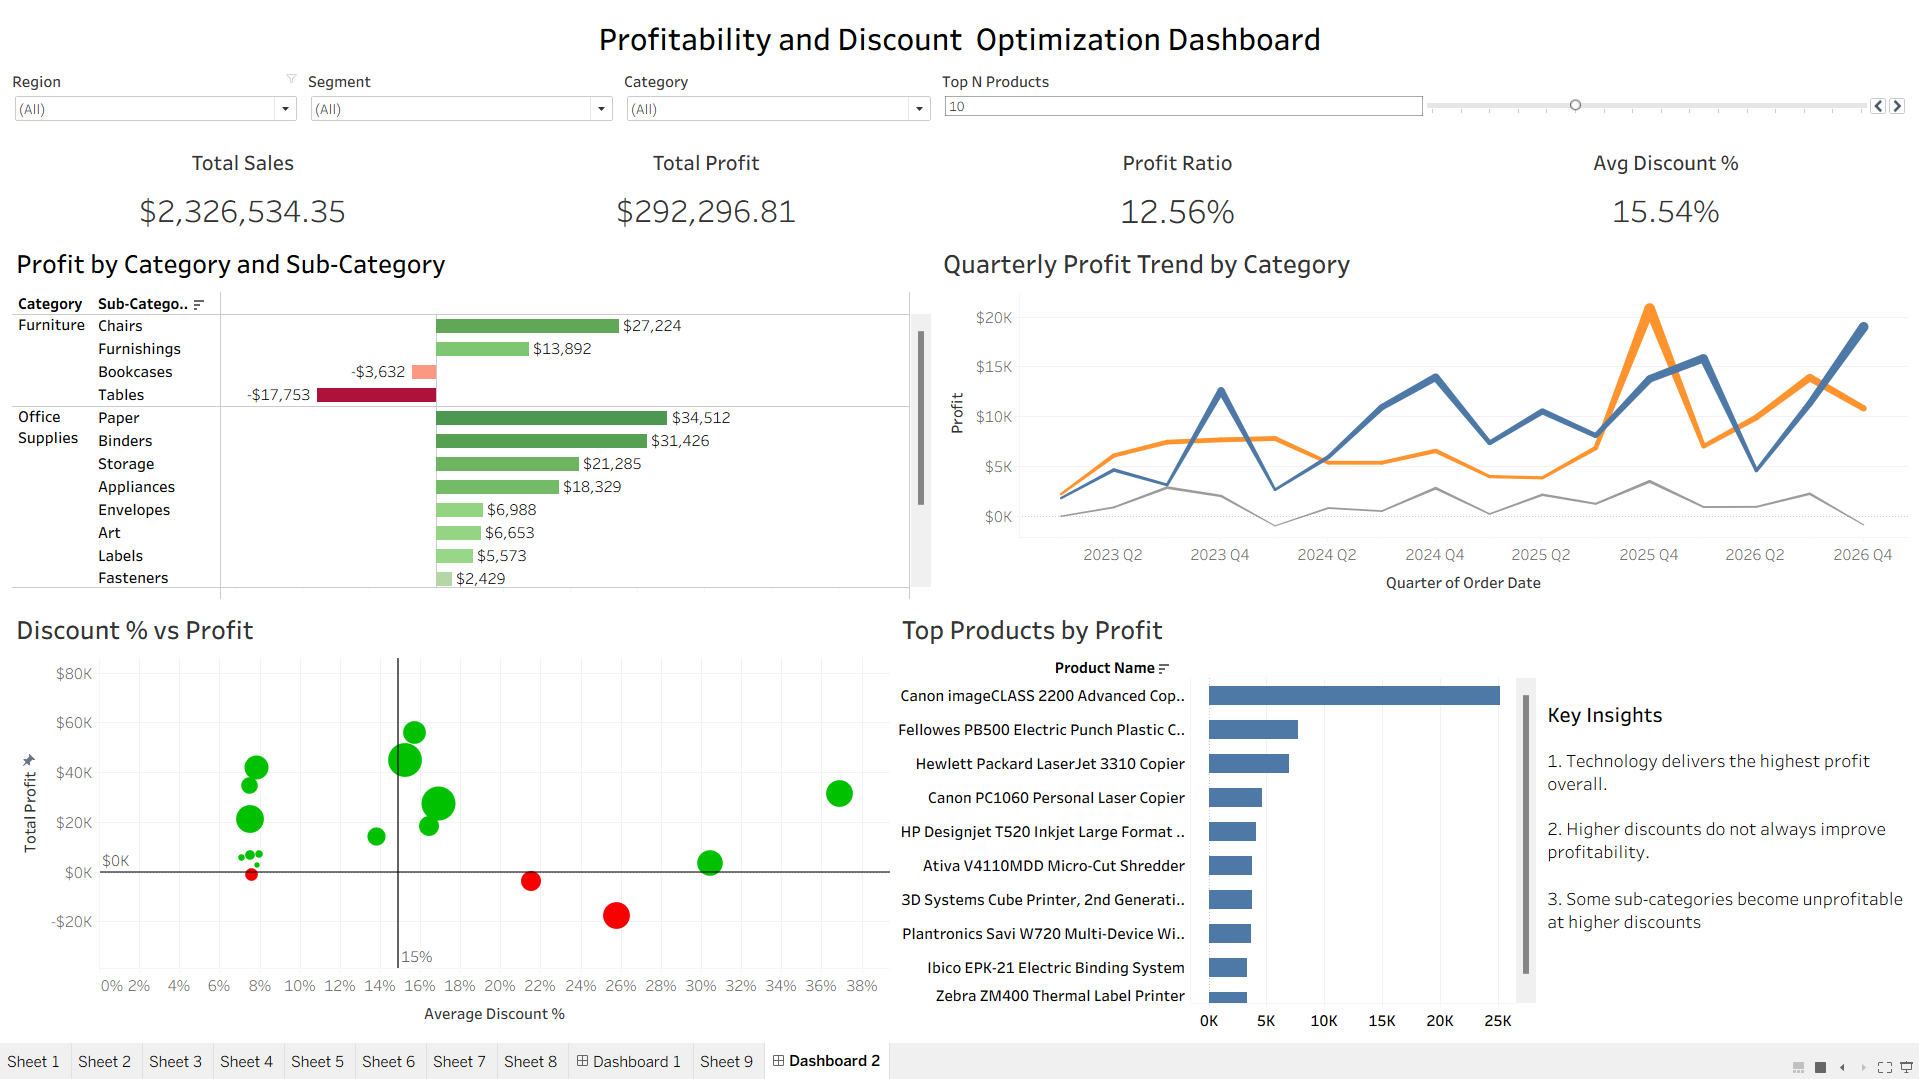

Layout of this report page (visuals, bound fields, positions):
{"tool":"tableau","page":{"name":"Dashboard 2","canvas":[1000,1000],"units":"permille","ordinal":1},"visuals":[{"type":"text","box":[4.8,9.4,990.3,56]},{"type":"filter","title":"Sheet 1","param":"[federated.17jq7yv1jr8ixq1a504ta0hgdchq].[none:Region:nk]","box":[4.8,65.4,154,69.6]},{"type":"filter","title":"Sheet 1","param":"[federated.17jq7yv1jr8ixq1a504ta0hgdchq].[none:Segment:nk]","box":[158.9,65.4,164.3,69.6]},{"type":"filter","title":"Sheet 1","param":"[federated.17jq7yv1jr8ixq1a504ta0hgdchq].[none:Category:nk]","box":[323.2,65.4,165.4,69.6]},{"type":"parameter","param":"[Parameters].[Discount Parameter]","box":[488.6,65.4,506.6,69.6]},{"type":"worksheet","title":"Sheet 6","mark":"Automatic","box":[4.8,135.1,244.2,94]},{"type":"worksheet","title":"Sheet 7","mark":"Automatic","box":[249.1,135.1,237.7,94]},{"type":"worksheet","title":"Sheet 8","mark":"Automatic","box":[486.8,135.1,252.3,94]},{"type":"worksheet","title":"Sheet 9","mark":"Automatic","box":[739.1,135.1,256.1,94]},{"type":"worksheet","title":"Sheet 1","mark":"Bar","rows":["Category","Sub-Category"],"cols":["Profit"],"box":[4.8,229.1,481.9,430.1]},{"type":"worksheet","title":"Sheet 3","mark":"Line","rows":["Profit"],"cols":["Order Date"],"box":[486.8,229.1,508.4,430.1]},{"type":"worksheet","title":"Sheet 2","mark":"Circle","rows":["Profit"],"cols":["Discount"],"box":[4.8,659.2,460.7,331.4]},{"type":"worksheet","title":"Sheet 5","mark":"Bar","rows":["Product Name"],"cols":["Profit"],"box":[465.5,659.2,389.9,331.4]},{"type":"text","box":[855.4,659.2,139.8,331.4]}]}

Visuals, with their boxes on the dashboard's canvas, which has no fixed pixel size, in thousandths of its width and height (x1, y1, x2, y2). These are canvas units, not pixel positions in the 1919x1079 screenshot, which may show the page scaled, cropped or inside an application window:
text: box(5, 9, 995, 65)
"Sheet 1" filter: box(5, 65, 159, 135)
"Sheet 1" filter: box(159, 65, 323, 135)
"Sheet 1" filter: box(323, 65, 489, 135)
parameter: box(489, 65, 995, 135)
"Sheet 6" worksheet: box(5, 135, 249, 229)
"Sheet 7" worksheet: box(249, 135, 487, 229)
"Sheet 8" worksheet: box(487, 135, 739, 229)
"Sheet 9" worksheet: box(739, 135, 995, 229)
"Sheet 1" worksheet (Bar marks): box(5, 229, 487, 659)
"Sheet 3" worksheet (Line marks): box(487, 229, 995, 659)
"Sheet 2" worksheet (Circle marks): box(5, 659, 466, 991)
"Sheet 5" worksheet (Bar marks): box(466, 659, 855, 991)
text: box(855, 659, 995, 991)
